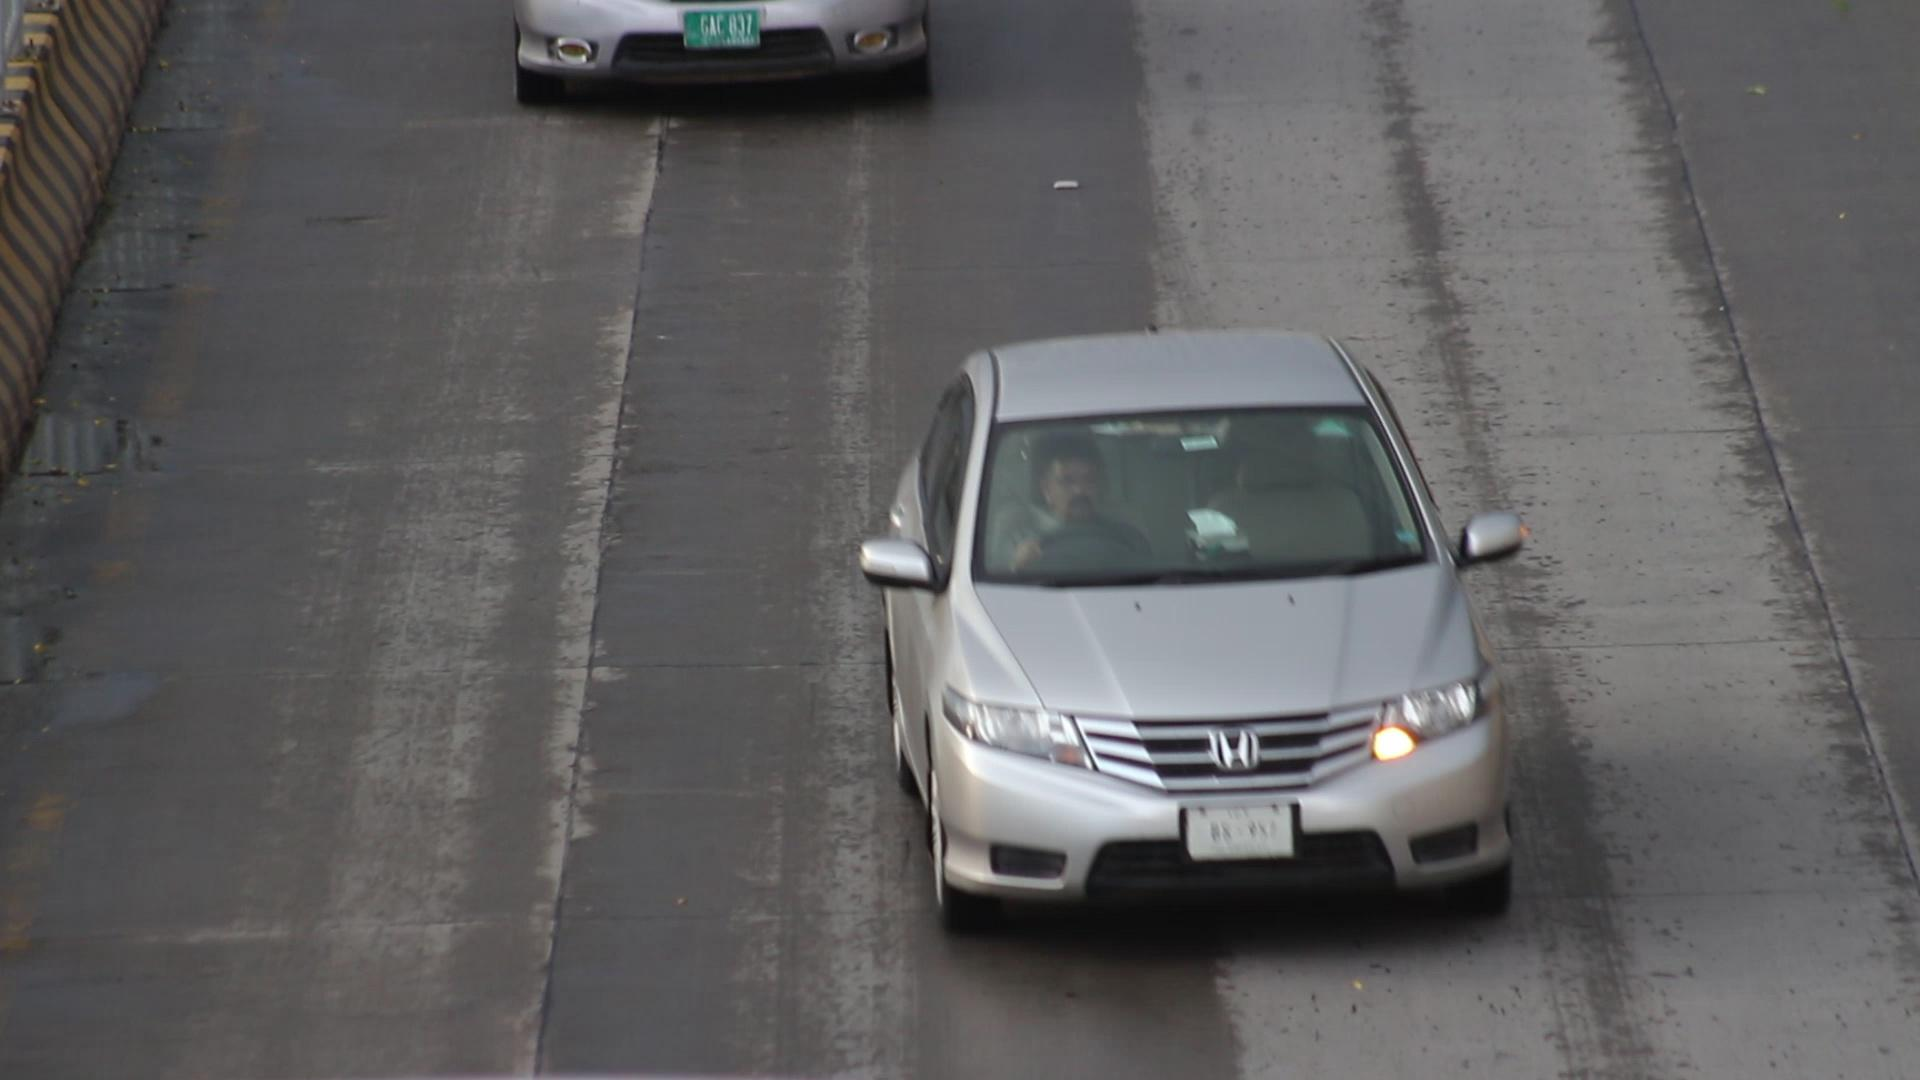windshield: (968, 390, 1460, 600)
